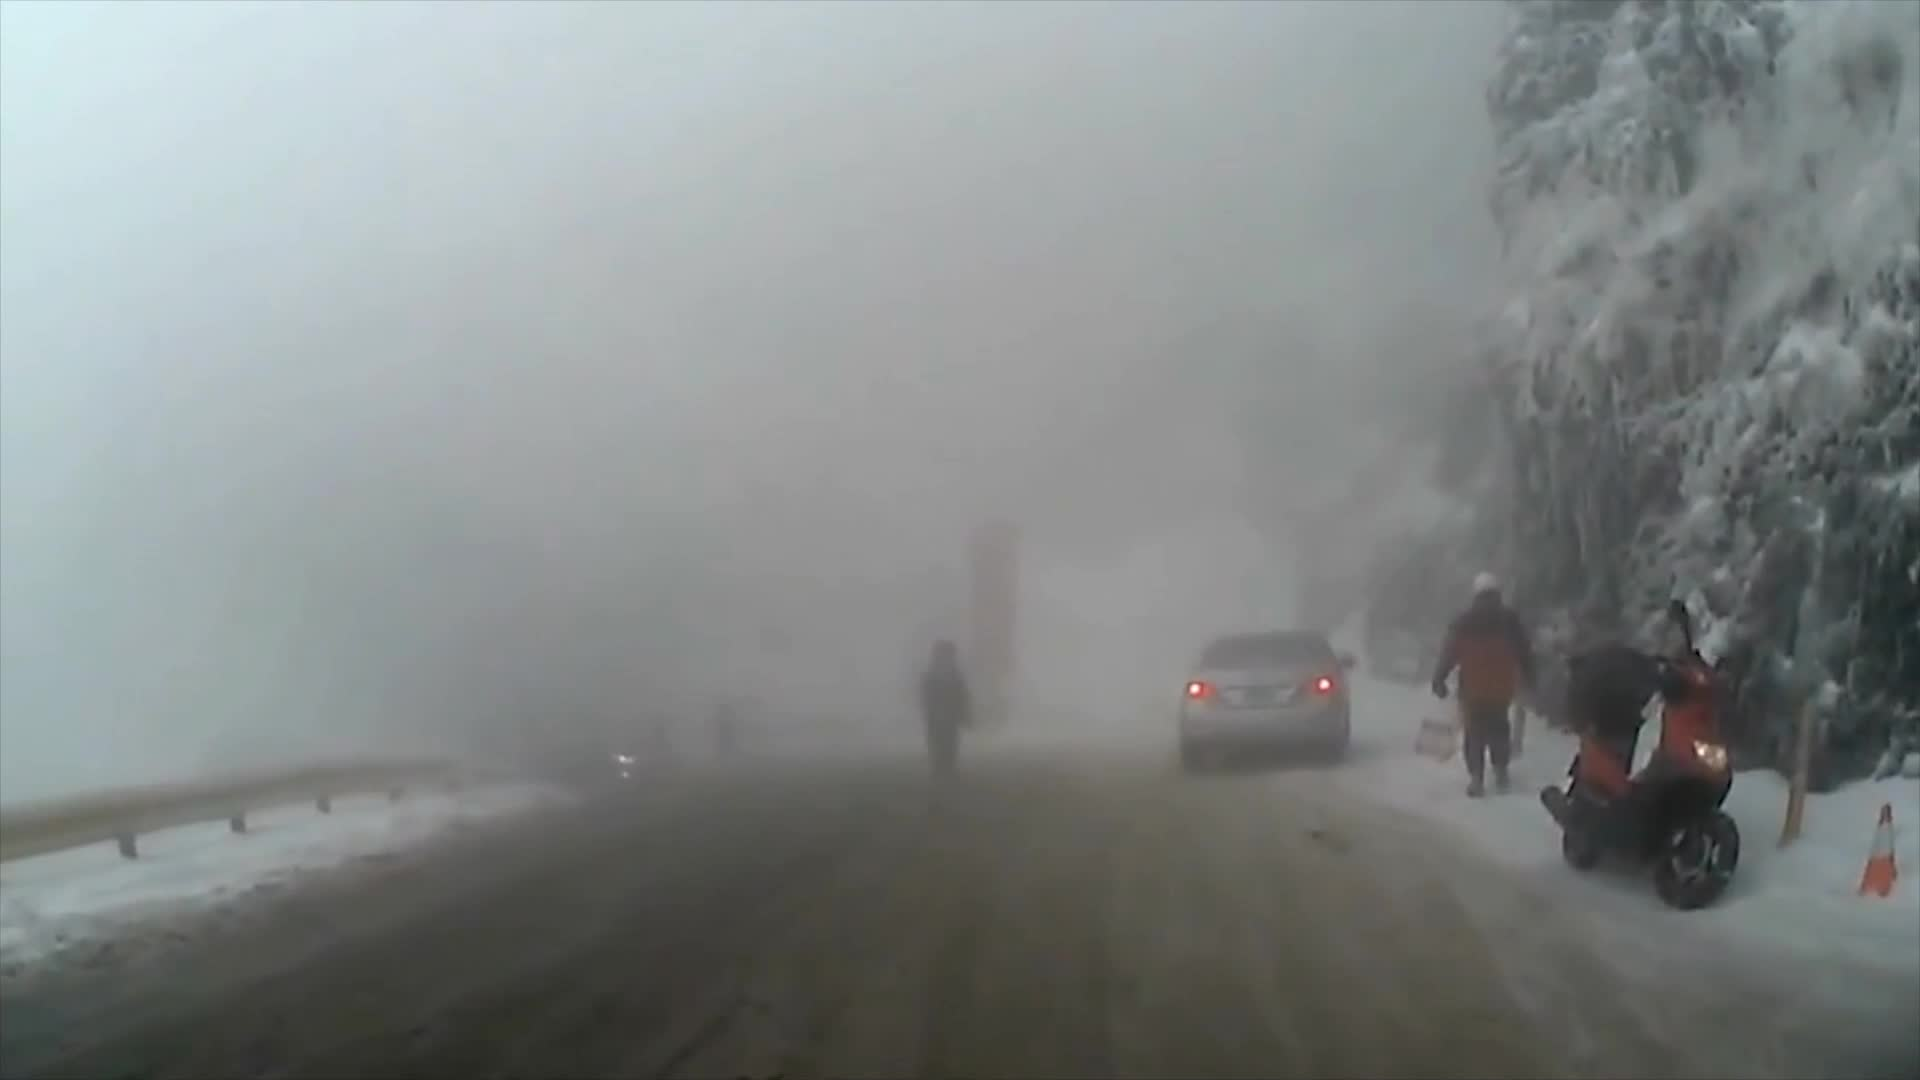pedestrian: (1432, 575, 1540, 806), (920, 641, 970, 793)
vehicle: (1180, 631, 1361, 777)
